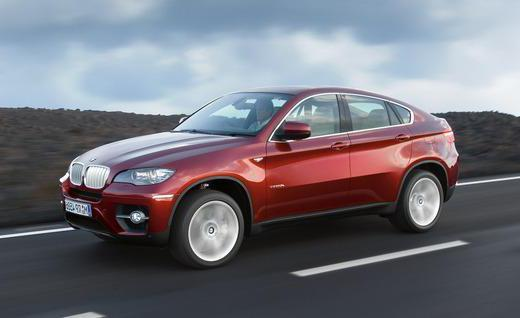Car: (38, 71, 482, 279)
